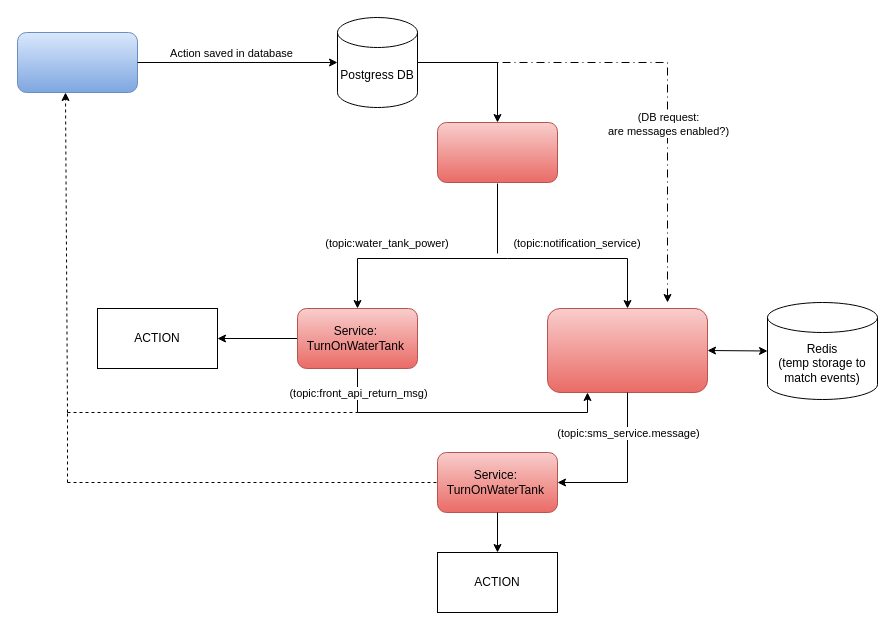
The diagram is 895 pixels wide and 630 high, and some of its shapes have lost their labels. The shapes that lost their labels are listed below. From the top down, each one's box as (x1, y1, x2, y2) in pixels, then its label:
(16, 32, 138, 92): Service: front_api (Async Fast API)
(436, 122, 558, 182): Service: DB_to_kafka (event extraction)
(546, 308, 708, 392): Service: Notification Center (waiting for front_api_return_msg)
